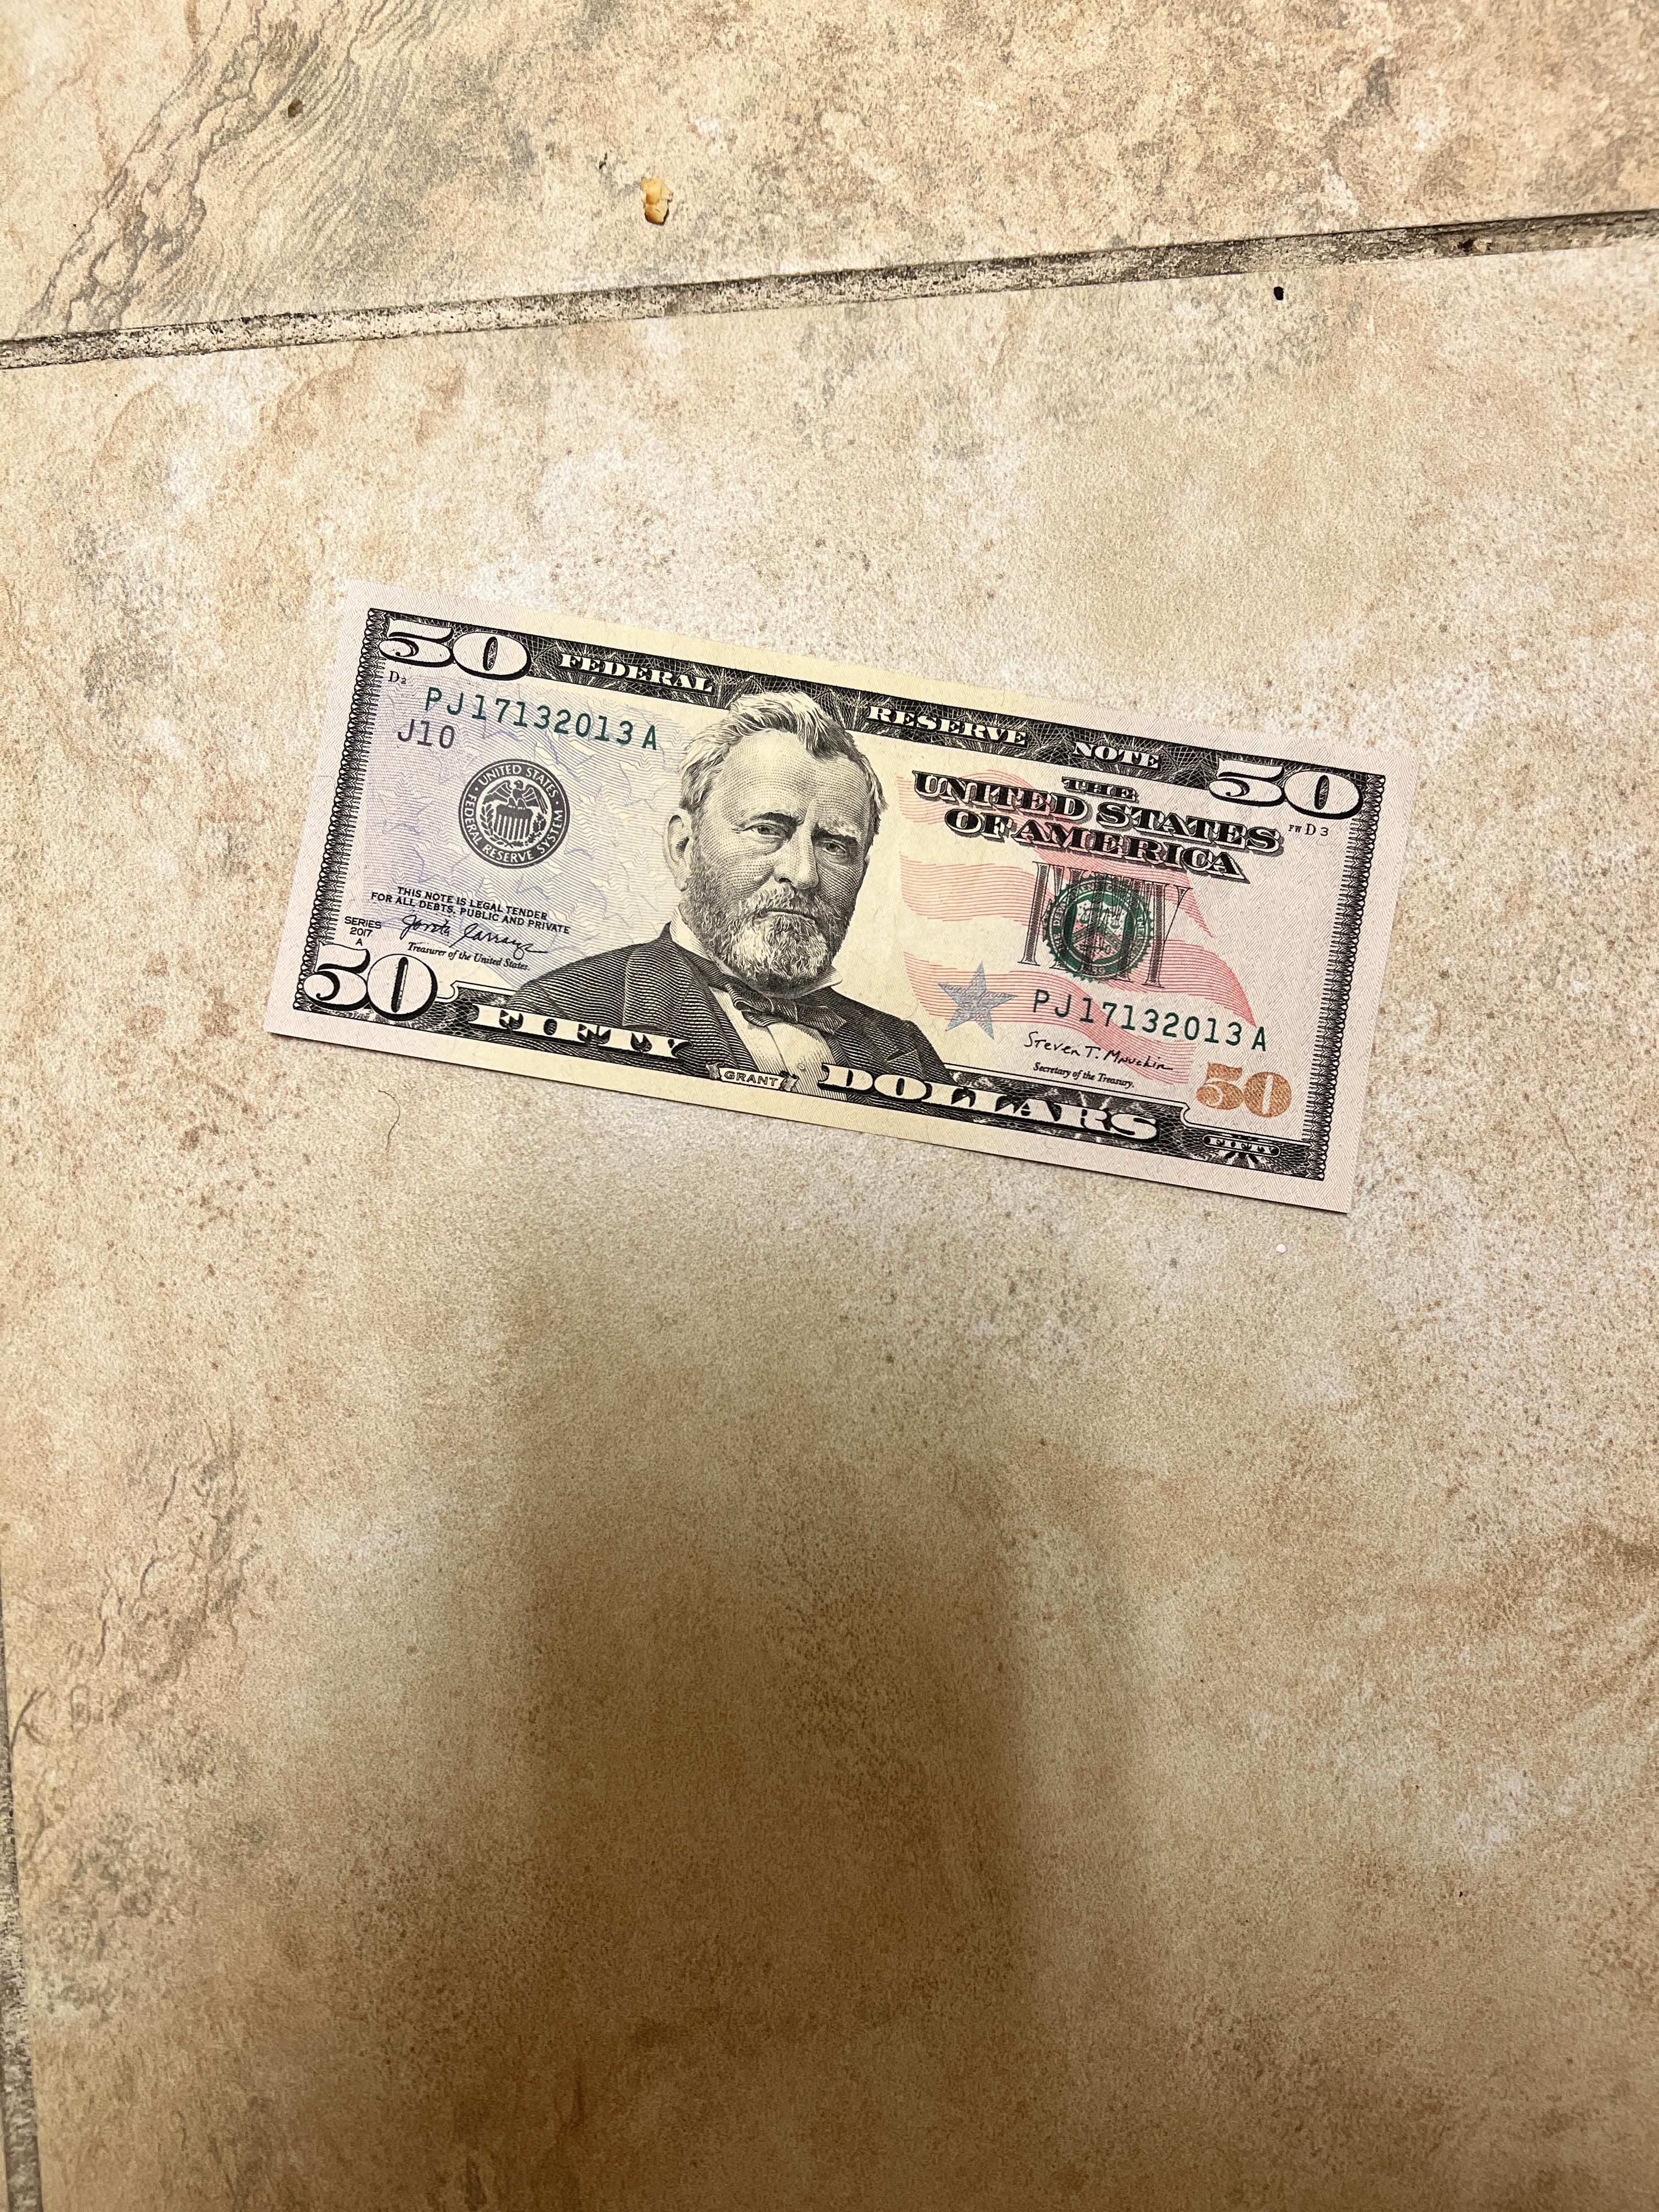FiftyBill: (261, 575, 1427, 1231)
